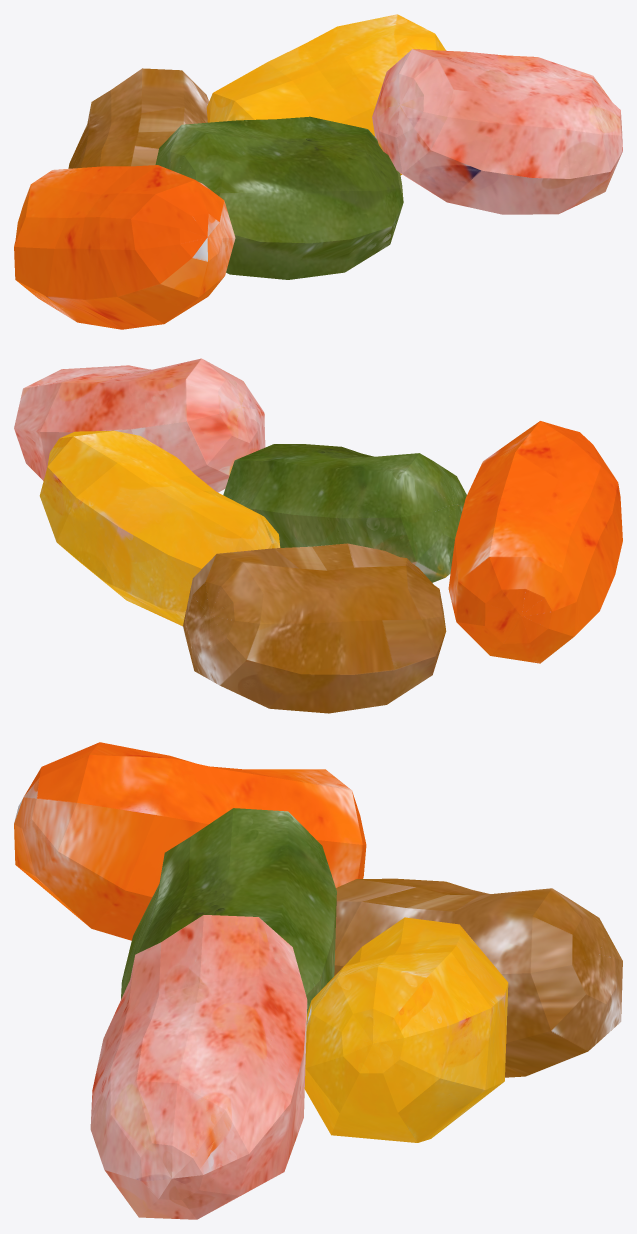
Rendered from jelly-bean.glb.
3 views of the same model, one above another, from view 1: azimuth 30°, elevation 25°; view 2: azimuth 150°, elevation 25°; view 3: azimuth 270°, elevation 25° (orthographic). The views are drawn at different scales.
Parts seen in each view (by area): view 1: Sphere.002, Sphere.004, Sphere, Sphere.001, Sphere.003; view 2: Sphere.003, Sphere.004, Sphere.001, Sphere, Sphere.002; view 3: Sphere.002, Sphere.001, Sphere.004, Sphere.003, Sphere.
Boxes of the visible parts, x1=… form: Sphere.002: x1=372, y1=49, x2=622, y2=214; Sphere.004: x1=14, y1=165, x2=235, y2=329; Sphere: x1=155, y1=116, x2=403, y2=279; Sphere.001: x1=206, y1=14, x2=445, y2=175; Sphere.003: x1=68, y1=68, x2=208, y2=168; Sphere.003: x1=183, y1=543, x2=446, y2=713; Sphere.004: x1=448, y1=421, x2=622, y2=663; Sphere.001: x1=39, y1=430, x2=280, y2=626; Sphere: x1=223, y1=444, x2=466, y2=582; Sphere.002: x1=14, y1=358, x2=265, y2=492; Sphere.002: x1=90, y1=915, x2=307, y2=1219; Sphere.001: x1=304, y1=917, x2=508, y2=1142; Sphere.004: x1=14, y1=742, x2=366, y2=940; Sphere.003: x1=334, y1=878, x2=622, y2=1077; Sphere: x1=121, y1=808, x2=336, y2=1013.
Size of the model in its own units: 4.12 by 1.48 by 2.79.
5 materials, 5 textured.
